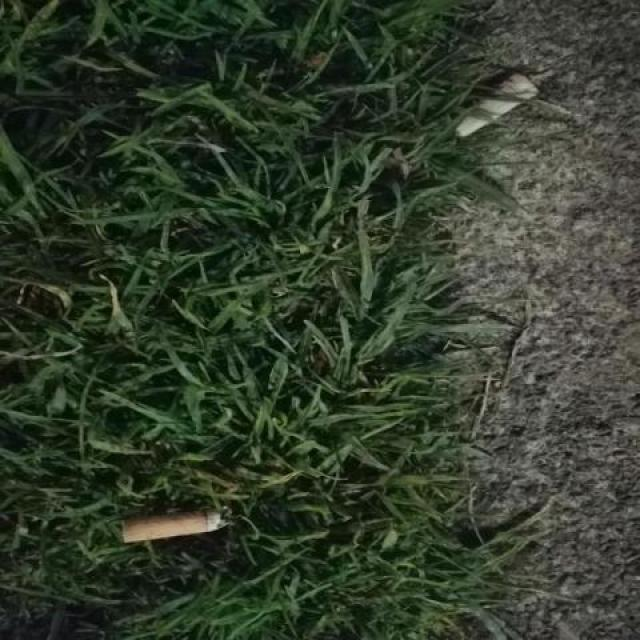non-organic waste: (450, 66, 542, 145), (120, 495, 236, 550)
